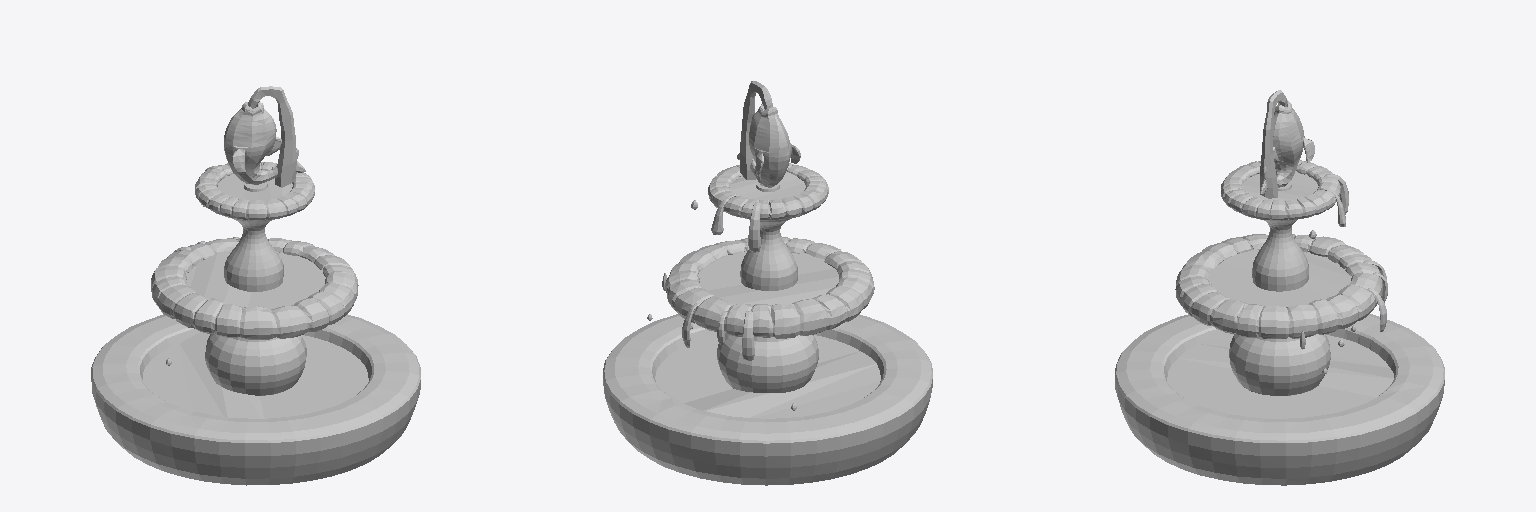
The model's file is Water FountainOBJ.obj.
3 renders of one model, left to right at view 1: azimuth 30°, elevation 25°; view 2: azimuth 150°, elevation 25°; view 3: azimuth 270°, elevation 25°, orthographic.
Visible parts, largest first — view 1: node_id301_mesh_id302; view 2: node_id301_mesh_id302; view 3: node_id301_mesh_id302.
Part boxes in pixels (x1,y1,x2,y2): node_id301_mesh_id302: (91,86,420,485); node_id301_mesh_id302: (603,81,932,485); node_id301_mesh_id302: (1115,90,1444,485).
Bounding box in the file's own units: 0.4556 × 0.512 × 0.4556.